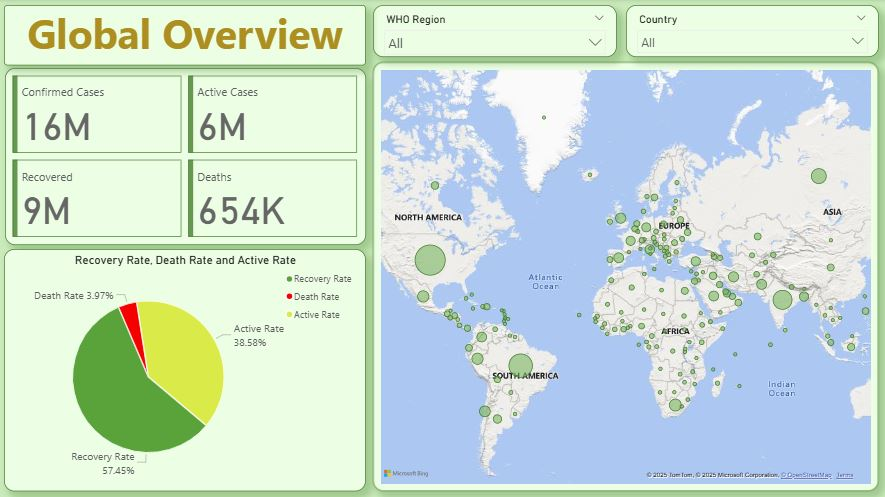

Layout of this report page (visuals, bound fields, positions):
{"tool":"powerbi","page":{"name":"Global view","canvas":[1280,720],"ordinal":1},"visuals":[{"type":"cardVisual","fields":{"Data":["Sum(country_wise_Covid19.Confirmed)","Sum(country_wise_Covid19.Active)","Sum(country_wise_Covid19.Recovered)","Sum(country_wise_Covid19.Deaths)"]},"box":[11.5,99.4,519.8,254.9],"z":0},{"type":"pieChart","fields":{"Y":["Table.Global Recovery Rate","Table.Global Death Rate","Table.Global Active Rate"]},"box":[10,360.4,520.6,349],"z":1000},{"type":"map","fields":{"Category":["country_wise_Covid19.Country/Region"],"Size":["Sum(country_wise_Covid19.Confirmed)"]},"box":[541.2,91.2,727.9,617.6],"z":2000},{"type":"slicer","fields":{"Values":["country_wise_Covid19.WHO Region"]},"box":[541.4,8.6,351.4,74.9],"z":3000},{"type":"slicer","fields":{"Values":["country_wise_Covid19.Country/Region"]},"box":[905.8,8.6,364.3,74.9],"z":4000},{"type":"textbox","box":[10.1,8.6,521.3,87],"z":5000},{"type":"shape","box":[11.5,7.2,519.8,87.8],"z":5001}]}

Visuals, with their boxes in screenshot pixels (x1, y1, x2, y2), scaled from the page's 1280x720 canvas onto the 885x497 screenshot:
cardVisual - Sum(country_wise_Covid19.Confirmed) x Sum(country_wise_Covid19.Active): box(8, 69, 367, 245)
pieChart - Table.Global Recovery Rate x Table.Global Death Rate: box(7, 249, 367, 490)
map - country_wise_Covid19.Country/Region x Sum(country_wise_Covid19.Confirmed): box(374, 63, 877, 489)
slicer - country_wise_Covid19.WHO Region: box(374, 6, 617, 58)
slicer - country_wise_Covid19.Country/Region: box(626, 6, 878, 58)
textbox: box(7, 6, 367, 66)
shape: box(8, 5, 367, 66)
